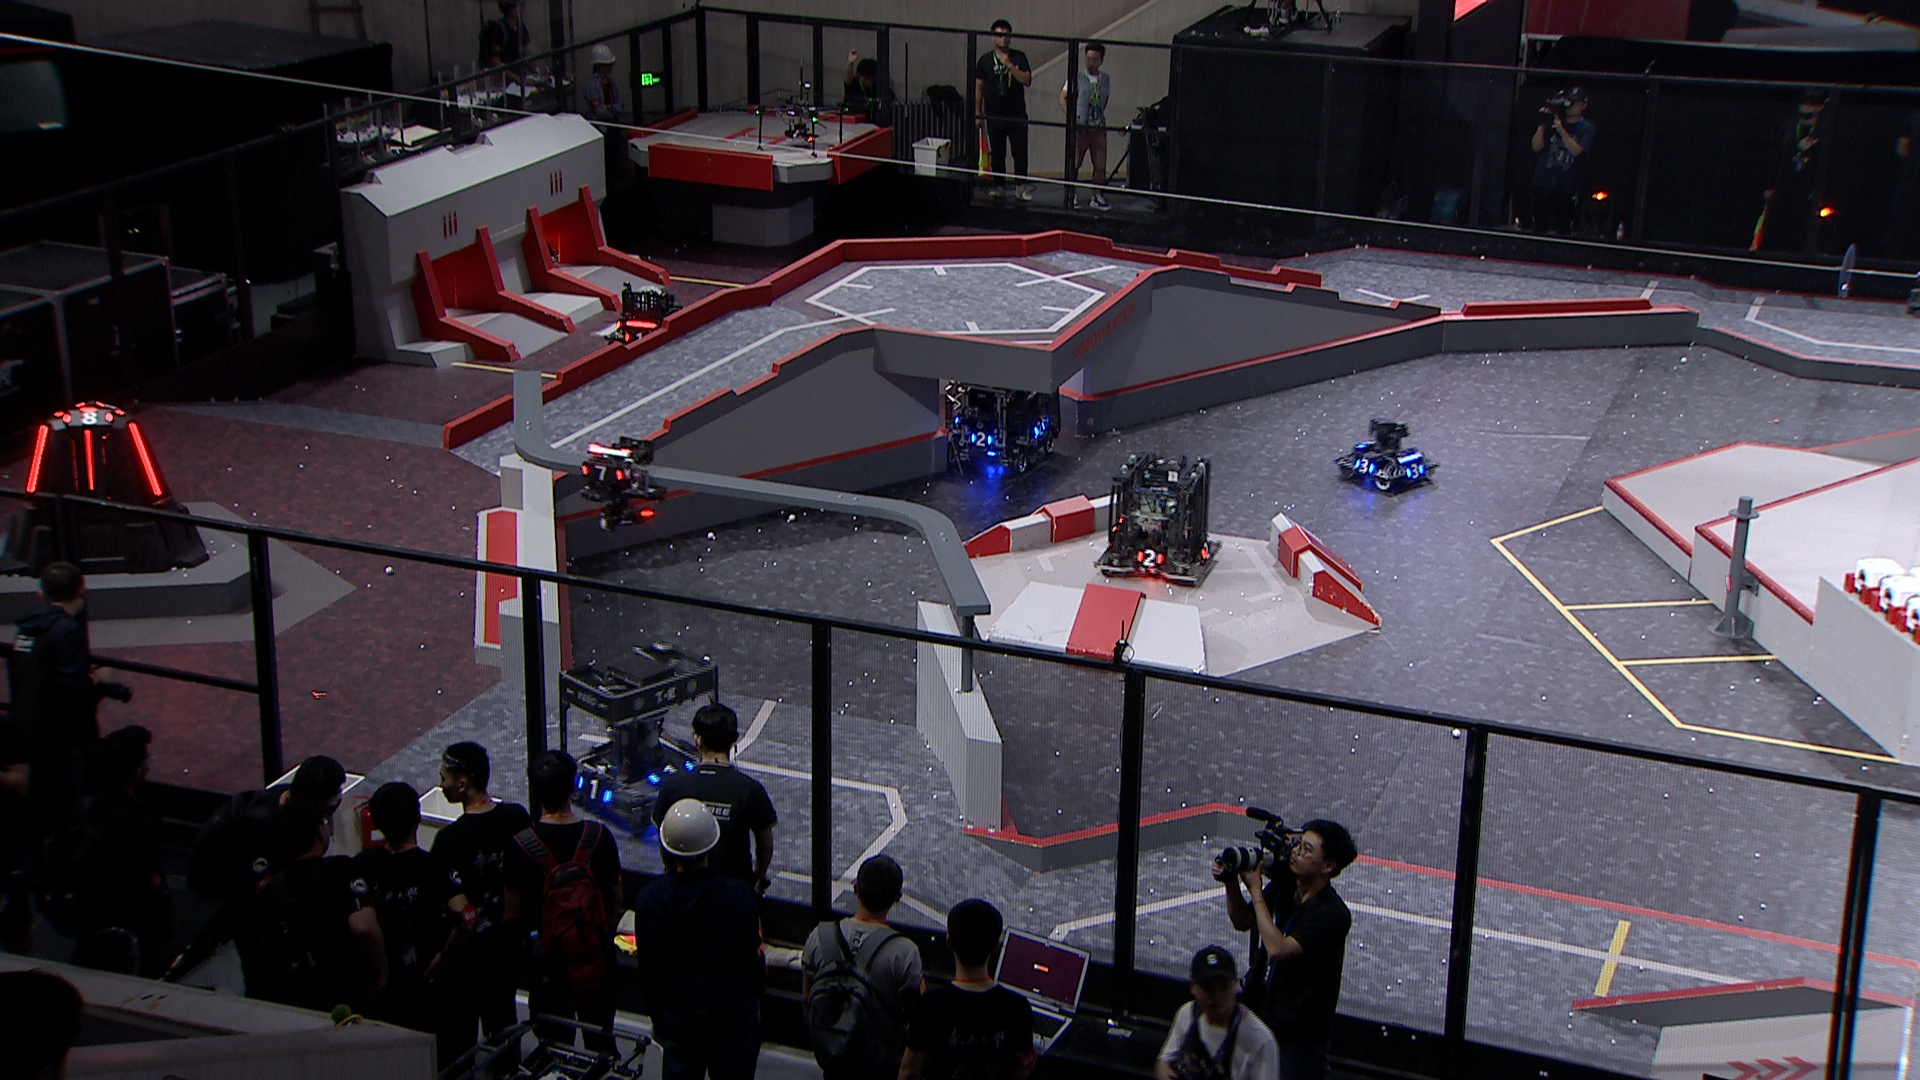armor: (124, 422, 161, 495), (25, 422, 47, 493), (78, 427, 95, 491), (575, 771, 612, 800), (647, 757, 688, 781), (63, 409, 113, 427), (580, 462, 622, 483), (1135, 547, 1164, 564), (622, 328, 646, 347), (1352, 455, 1373, 475), (968, 429, 992, 446), (1403, 462, 1427, 477), (1034, 417, 1046, 439), (1200, 542, 1215, 559), (1358, 436, 1375, 450)
car: (553, 638, 731, 835), (1091, 451, 1221, 588), (939, 352, 1065, 475), (1335, 415, 1437, 493), (605, 280, 688, 360)
watcher: (575, 434, 665, 531)
